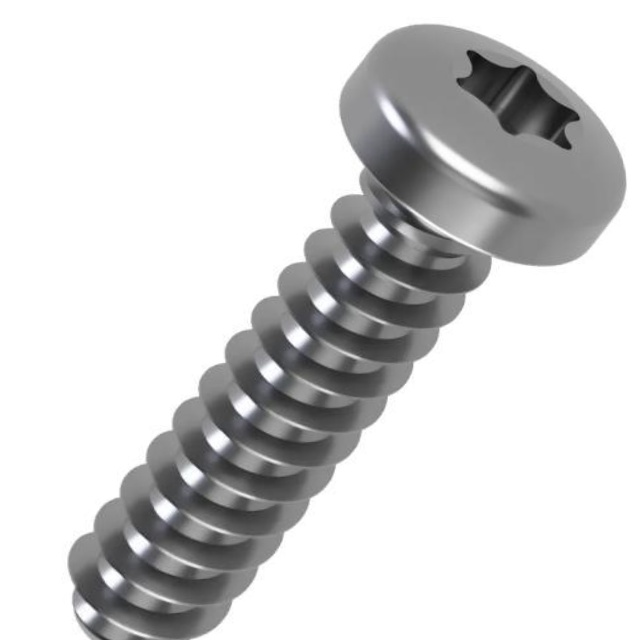torx: (335, 19, 632, 277)
